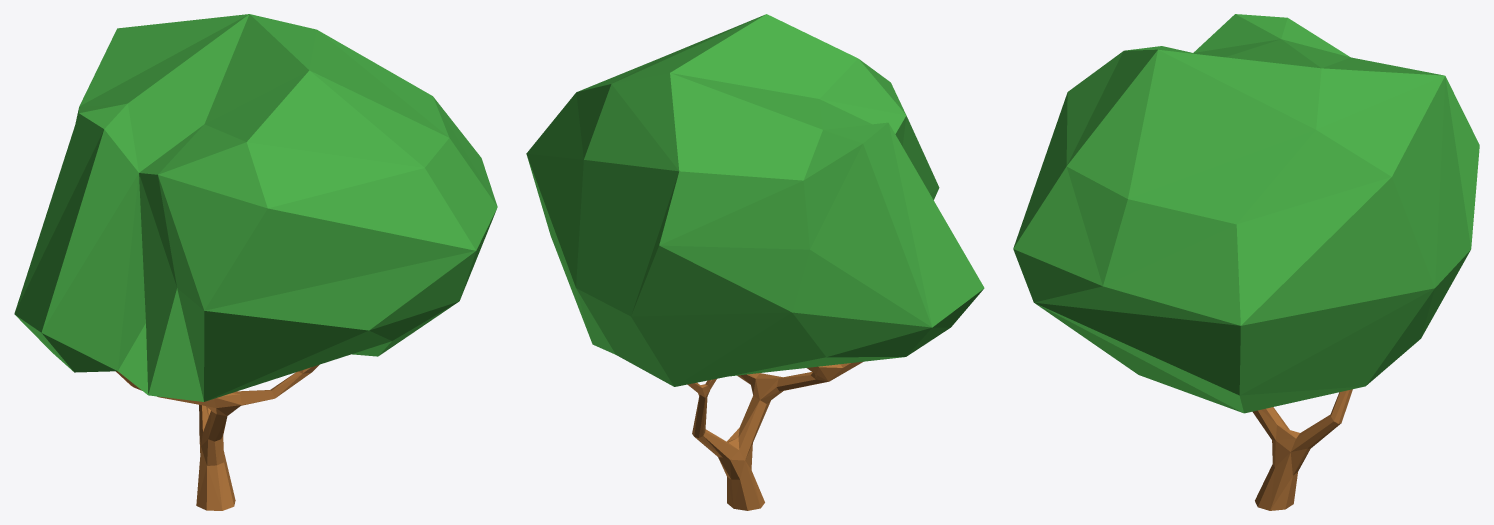
Rendered from tree_12.glb.
The picture shows the model from 3 angles, left to right: view 1: azimuth 30°, elevation 25°; view 2: azimuth 150°, elevation 25°; view 3: azimuth 270°, elevation 25°; orthographic projection. The views are drawn at different scales.
Parts seen in each view (by area): view 1: Lowpoly_Tree_12_Material.002_0, Lowpoly_Tree_12_Material_0; view 2: Lowpoly_Tree_12_Material.002_0, Lowpoly_Tree_12_Material_0; view 3: Lowpoly_Tree_12_Material.002_0, Lowpoly_Tree_12_Material_0.
Boxes of the visible parts, box(x1,y1,x2,y2) form: Lowpoly_Tree_12_Material.002_0: box(14, 14, 497, 401); Lowpoly_Tree_12_Material_0: box(116, 364, 319, 510); Lowpoly_Tree_12_Material.002_0: box(526, 14, 984, 386); Lowpoly_Tree_12_Material_0: box(687, 361, 863, 510); Lowpoly_Tree_12_Material.002_0: box(1013, 14, 1479, 413); Lowpoly_Tree_12_Material_0: box(1252, 389, 1352, 510).
Bounding box in the file's own units: 0.6904 × 0.6651 × 0.5981.
